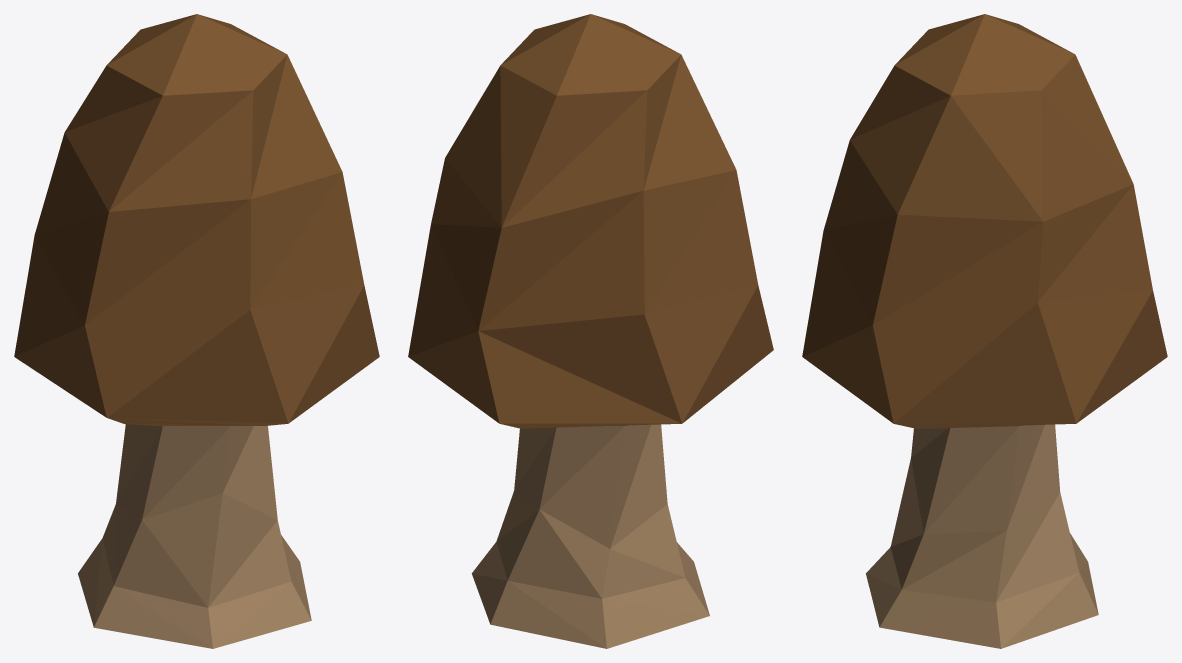
File: TallMushroom2.fbx
The picture shows the model from 3 angles, left to right: view 1: azimuth 30°, elevation 25°; view 2: azimuth 150°, elevation 25°; view 3: azimuth 270°, elevation 25°; orthographic projection.
Visible parts, largest first — view 1: TallMushroom2; view 2: TallMushroom2; view 3: TallMushroom2.
Boxes of the visible parts, bbox=[...] form: TallMushroom2: bbox=[14, 14, 379, 648]; TallMushroom2: bbox=[408, 14, 773, 648]; TallMushroom2: bbox=[802, 14, 1167, 648].
Bounding box in the file's own units: 81.07 × 171 × 92.71.
